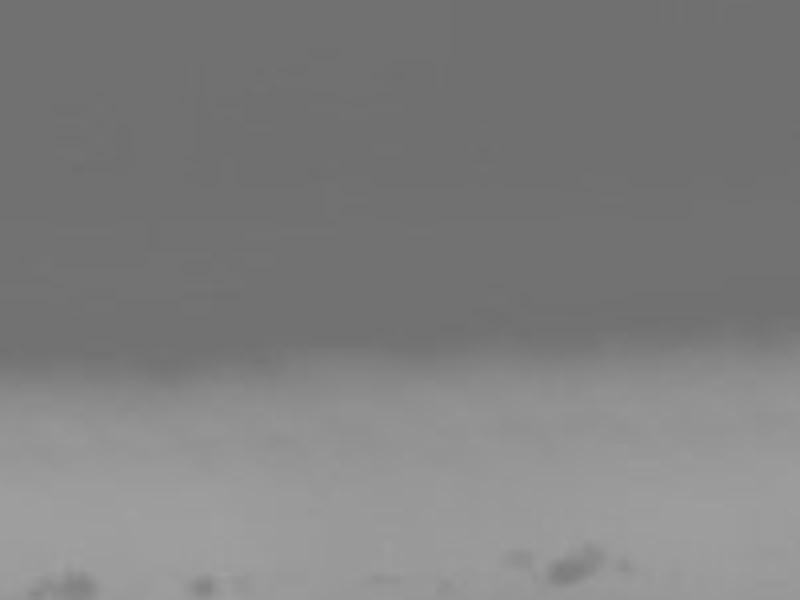defect: (32, 566, 100, 600), (549, 549, 601, 584), (367, 565, 409, 585), (500, 544, 531, 571), (187, 571, 220, 596), (429, 573, 464, 596), (613, 550, 635, 573)
